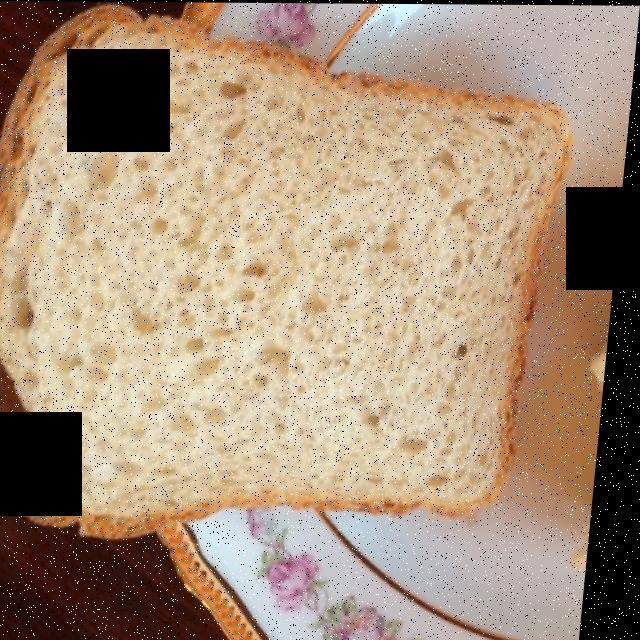bread-white: (0, 17, 564, 521)
